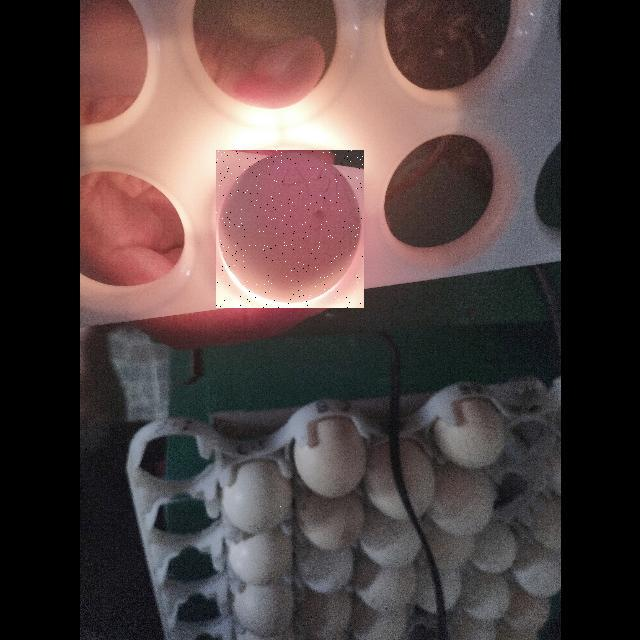Fertile: (216, 150, 364, 308)
